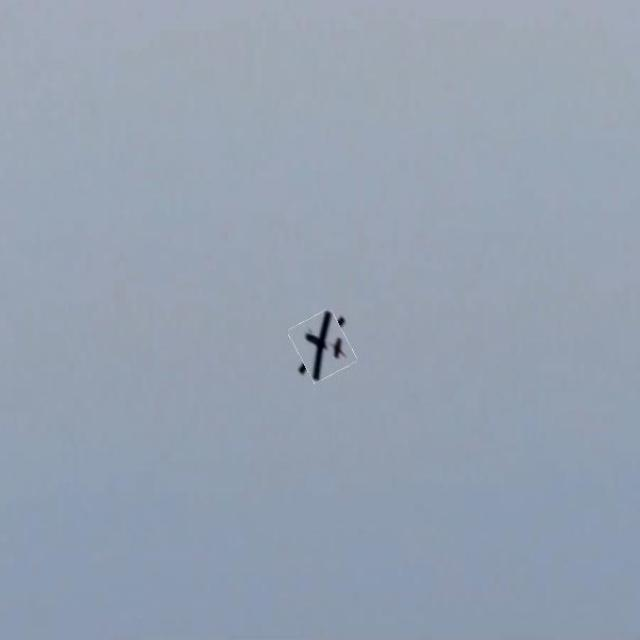plane: (286, 308, 355, 382)
